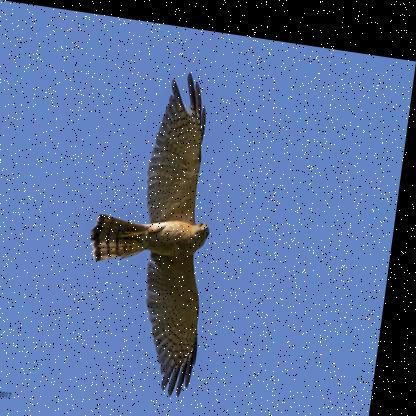Burung: (80, 56, 234, 392)
